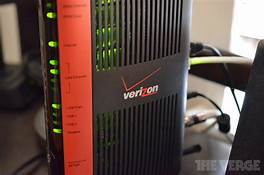Verizon Router: (23, 1, 197, 175)
